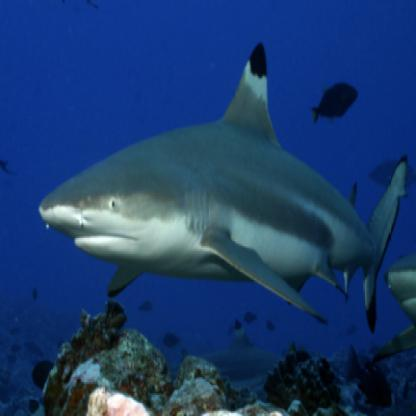shark: (39, 40, 408, 333)
